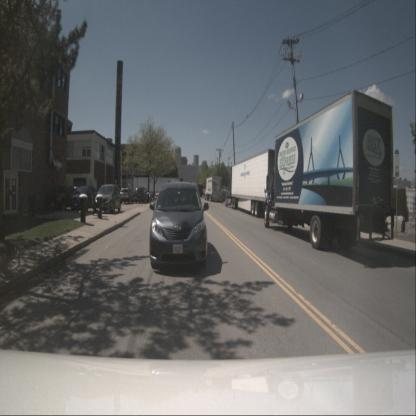vehicle-car: (149, 182, 208, 272), (48, 186, 79, 212), (95, 184, 122, 213), (71, 185, 98, 211), (135, 186, 151, 204), (120, 187, 134, 204)
vehicle-truck: (262, 88, 394, 250), (204, 176, 222, 201), (225, 166, 232, 207), (197, 184, 206, 198)
